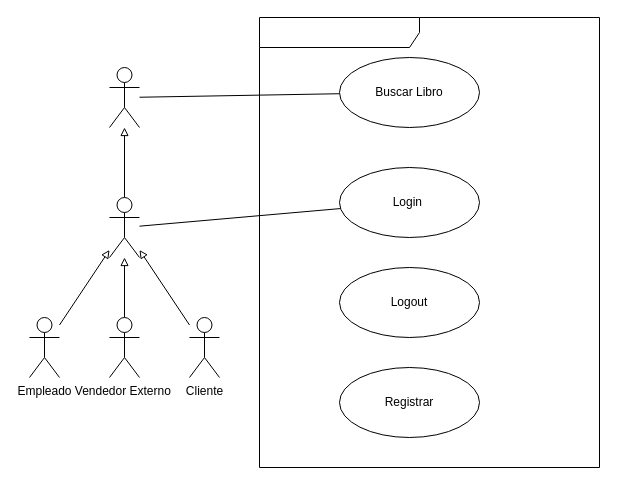
This 617x485 diagram has some shape labels left out. Here are the shapes that lost their labels. From the top down, the centre of each, then its label:
(124,97): Usuario
(124,227): Usuario identificado
(429,242): Autentificacion
